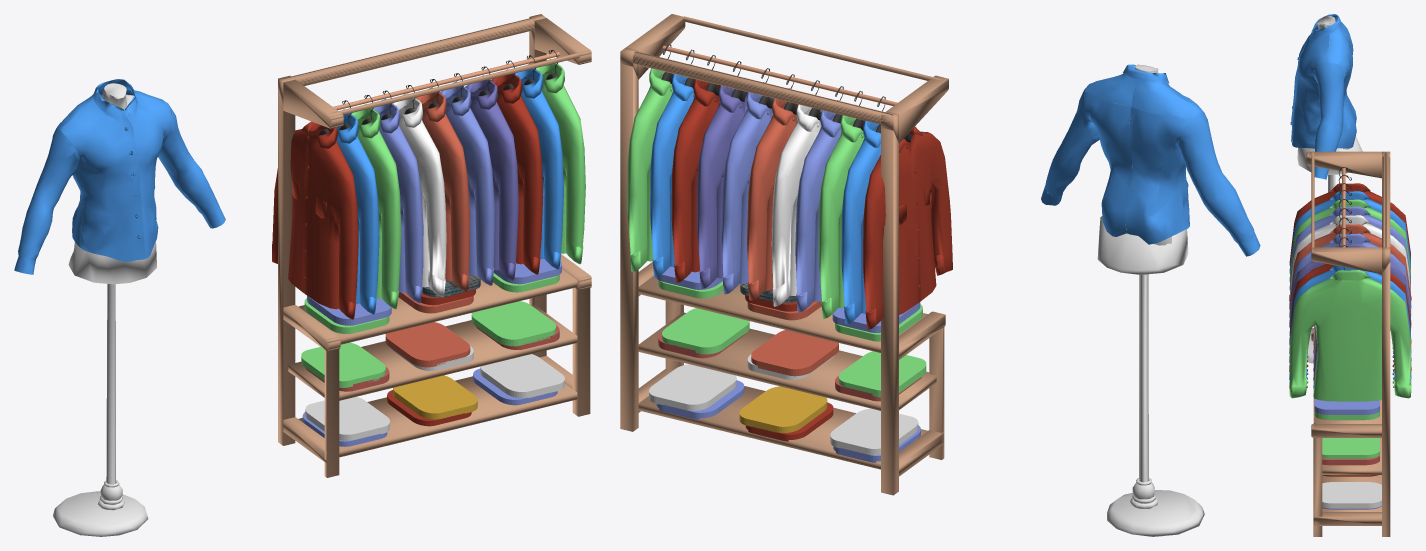
The model's file is Casual Shirt_Rack & Mannequin.fbx.
3 renders of one model, left to right at view 1: azimuth 30°, elevation 25°; view 2: azimuth 150°, elevation 25°; view 3: azimuth 270°, elevation 25°, orthographic. The views are drawn at different scales.
Parts seen in each view (by area): view 1: Pattern2D_5081.019, shirt, polySurface88.009, polySurface88.004, polySurface88.003, polySurface88.005, polySurface88.002, polySurface88.001, polySurface88.007, polySurface88.011, polySurface88.008, polySurface88.006 (+16 smaller); view 2: Pattern2D_5081.019, shirt, polySurface88.009, polySurface88.003, polySurface88.004, polySurface88.005, polySurface88.002, polySurface88.001, polySurface88.011, polySurface88.007, polySurface88.008, polySurface88.006 (+13 smaller); view 3: polySurface88.007, Pattern2D_5081.019, shirt, Shirt_folded.057, Shirt_folded.068, polySurface88.001, polySurface88.002, polySurface88.008, polySurface88.010, polySurface88.003, polySurface88.009, polySurface88.006 (+9 smaller).
Boxes of the visible parts, x1=… form: Pattern2D_5081.019: x1=278, y1=14, x2=591, y2=477; shirt: x1=14, y1=79, x2=225, y2=274; polySurface88.009: x1=272, y1=121, x2=358, y2=319; polySurface88.004: x1=465, y1=75, x2=518, y2=280; polySurface88.003: x1=440, y1=81, x2=494, y2=285; polySurface88.005: x1=491, y1=69, x2=543, y2=274; polySurface88.002: x1=416, y1=87, x2=470, y2=291; polySurface88.001: x1=392, y1=93, x2=446, y2=297; polySurface88.007: x1=536, y1=59, x2=585, y2=264; polySurface88.011: x1=351, y1=104, x2=401, y2=309; polySurface88.008: x1=373, y1=98, x2=423, y2=303; polySurface88.006: x1=515, y1=64, x2=563, y2=269; Pattern2D_5081.019: x1=620, y1=14, x2=948, y2=495; shirt: x1=1041, y1=64, x2=1260, y2=256; polySurface88.009: x1=863, y1=126, x2=952, y2=329; polySurface88.003: x1=721, y1=82, x2=773, y2=294; polySurface88.004: x1=697, y1=85, x2=748, y2=288; polySurface88.005: x1=671, y1=79, x2=720, y2=282; polySurface88.002: x1=747, y1=88, x2=798, y2=300; polySurface88.001: x1=771, y1=104, x2=821, y2=306; polySurface88.011: x1=818, y1=115, x2=864, y2=318; polySurface88.007: x1=627, y1=68, x2=672, y2=272; polySurface88.008: x1=795, y1=100, x2=841, y2=312; polySurface88.006: x1=650, y1=74, x2=694, y2=277; polySurface88.007: x1=1289, y1=270, x2=1411, y2=401; Pattern2D_5081.019: x1=1306, y1=151, x2=1390, y2=536; shirt: x1=1290, y1=14, x2=1356, y2=179; Shirt_folded.057: x1=1322, y1=482, x2=1381, y2=508; Shirt_folded.068: x1=1322, y1=438, x2=1379, y2=458; polySurface88.001: x1=1289, y1=215, x2=1411, y2=344; polySurface88.002: x1=1289, y1=224, x2=1411, y2=353; polySurface88.008: x1=1289, y1=206, x2=1411, y2=335; polySurface88.010: x1=1289, y1=191, x2=1411, y2=310; polySurface88.003: x1=1289, y1=233, x2=1411, y2=362; polySurface88.009: x1=1289, y1=183, x2=1411, y2=302; polySurface88.006: x1=1289, y1=265, x2=1411, y2=388.
Bounding box in the file's own units: 501 × 365 × 119.
